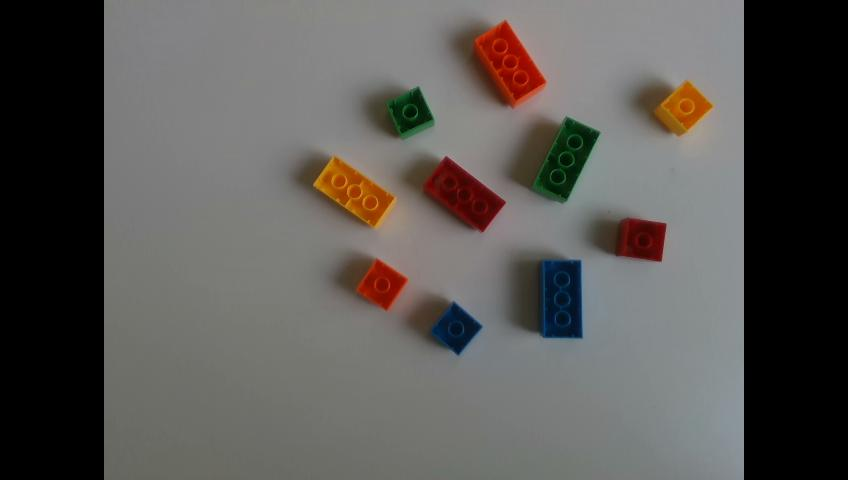2x2_blue: (431, 303, 483, 354)
2x2_green: (387, 86, 435, 137)
2x2_orange: (356, 258, 407, 309)
2x2_red: (619, 216, 666, 260)
2x2_yellow: (651, 77, 711, 134)
4x2_blue: (541, 258, 583, 336)
4x2_green: (532, 116, 600, 200)
4x2_orange: (470, 20, 546, 107)
4x2_red: (424, 155, 507, 235)
4x2_yellow: (313, 155, 399, 233)
